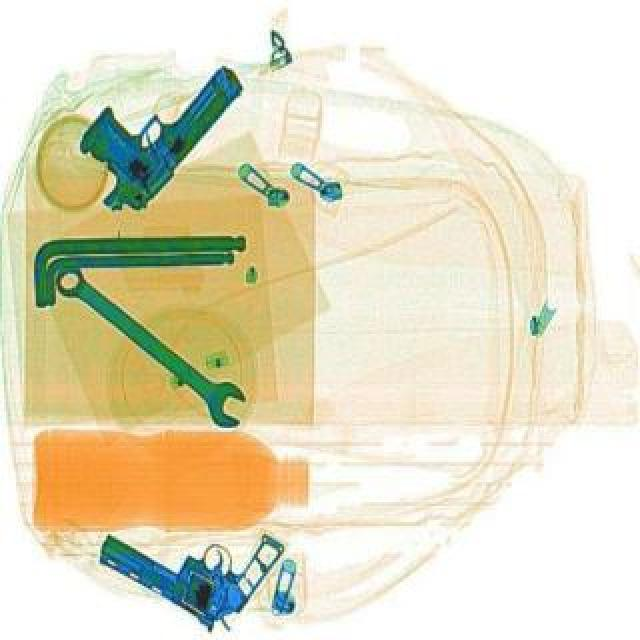gun: (48, 24, 254, 224), (88, 464, 288, 634)
scissors: (44, 252, 254, 430)
